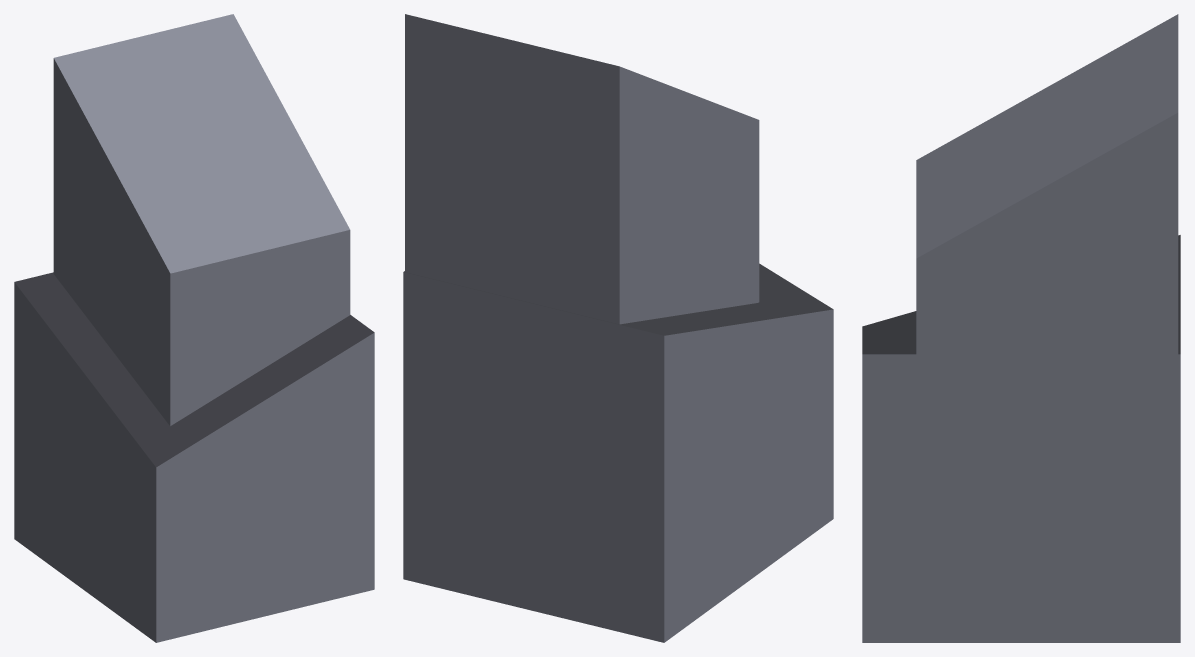
The model's file is BackLeft.fbx.
The picture shows the model from 3 angles, left to right: view 1: azimuth 30°, elevation 25°; view 2: azimuth 150°, elevation 25°; view 3: azimuth 270°, elevation 25°; orthographic projection. The views are drawn at different scales.
Visible parts, largest first — view 1: BackRight; view 2: BackRight; view 3: BackRight.
Boxes of the visible parts, x1,y1,x2,y2 form: BackRight: [14, 14, 374, 642]; BackRight: [403, 14, 833, 642]; BackRight: [862, 14, 1180, 642].
Bounding box in the file's own units: 178 × 368 × 200.
